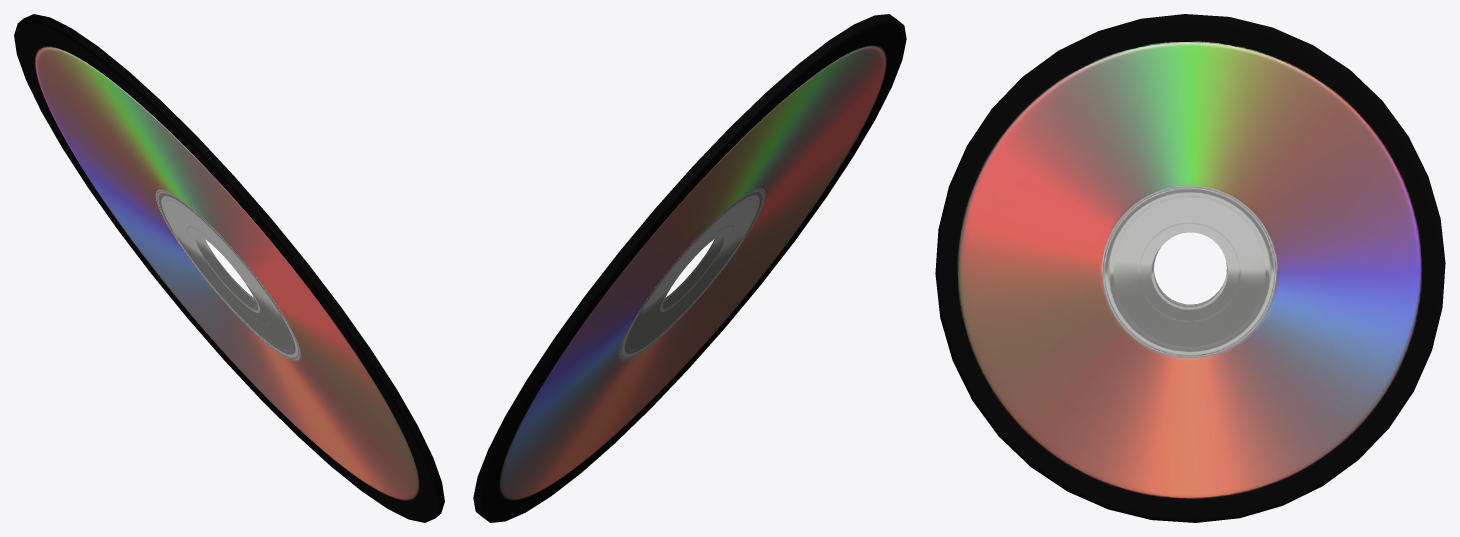
The picture shows the model from 3 angles, left to right: view 1: azimuth 30°, elevation 25°; view 2: azimuth 150°, elevation 25°; view 3: azimuth 270°, elevation 25°; orthographic projection. The views are drawn at different scales.
Parts seen in each view (by area): view 1: Cylinder001; view 2: Cylinder001; view 3: Cylinder001.
Boxes of the visible parts, box(x1,y1,x2,y2) form: Cylinder001: box(14, 14, 444, 522); Cylinder001: box(473, 14, 906, 522); Cylinder001: box(935, 14, 1445, 522).
Bounding box in the file's own units: 3.3 × 5.76 × 6.57.
Materials: 1 (1 with a texture image).
